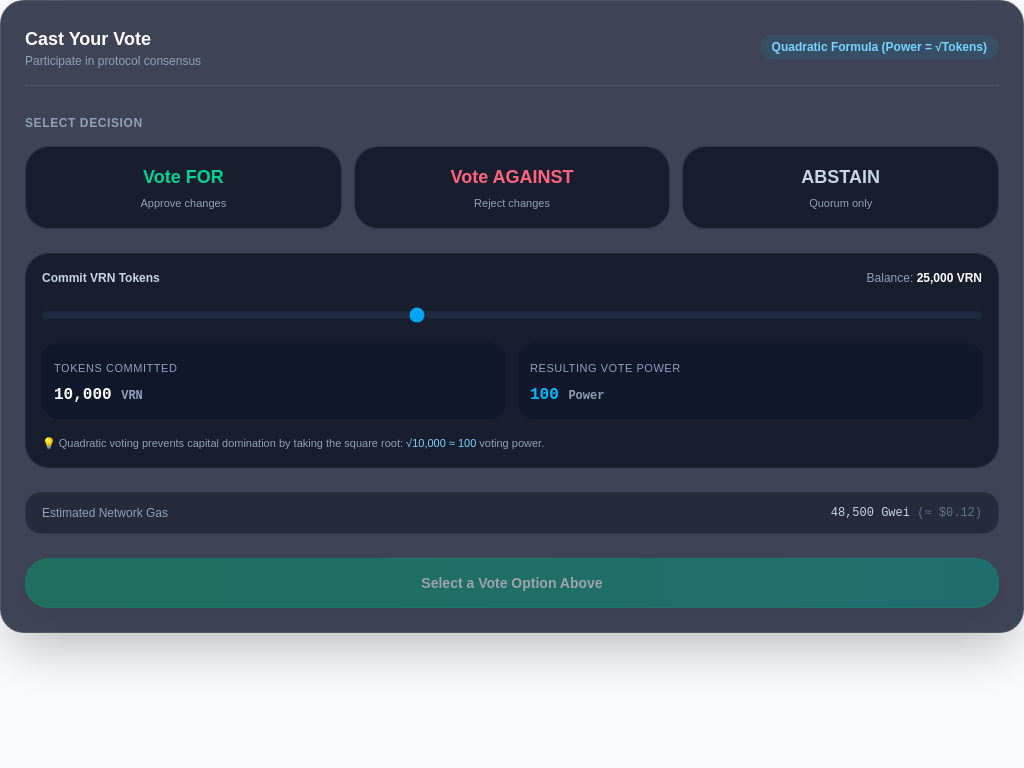
Test: Governance UI Components › VotePanel › selects voting choice and enables submit button
Click the text "Vote FOR" at (183,177), box [143, 163, 224, 191]
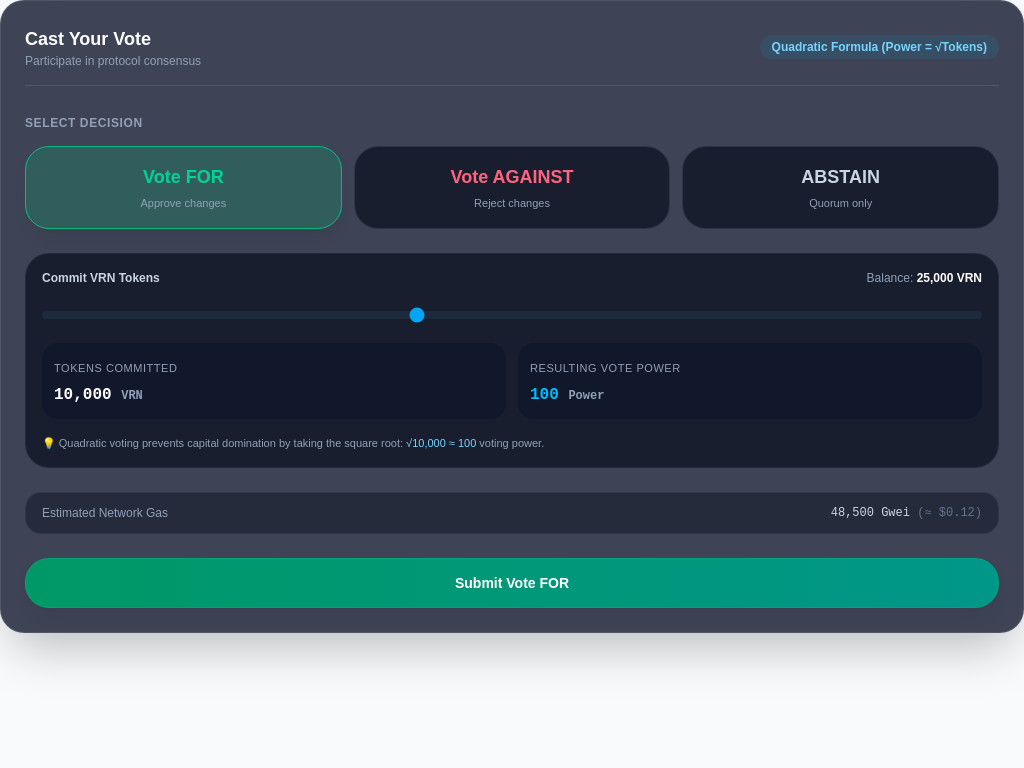
Now the button "Submit Vote FOR" is shown
// Open confirmation modal
Click the button "Submit Vote FOR" at (512,583), box [25, 558, 999, 608]
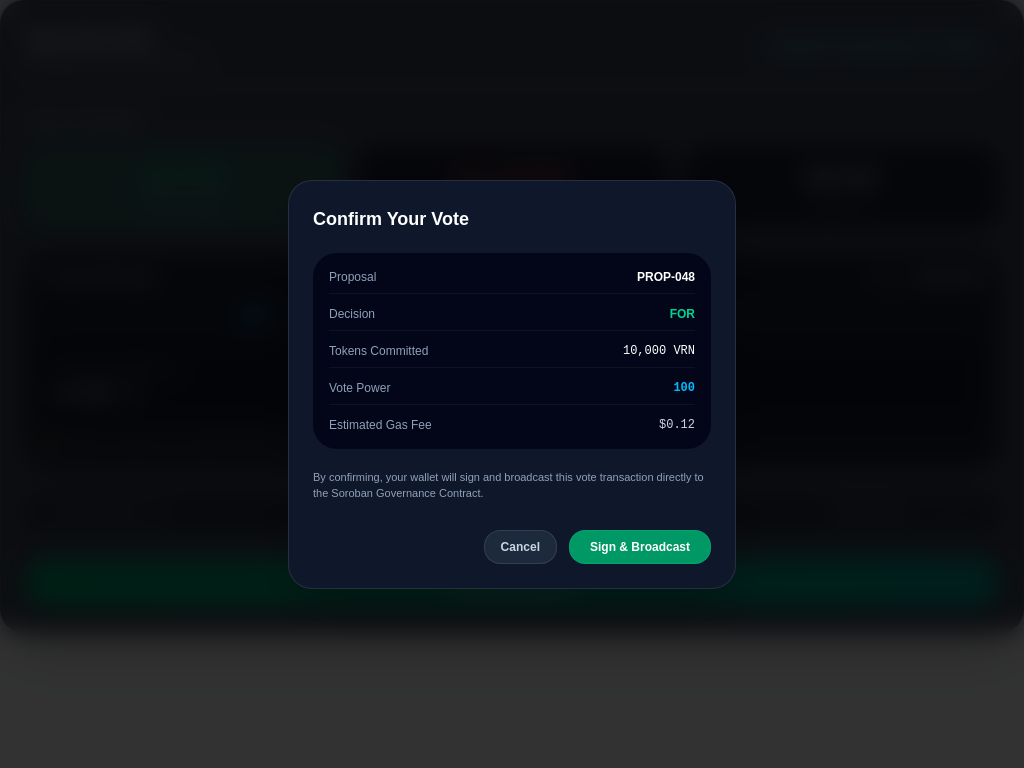
Now the heading "Confirm Your Vote" is shown, box [313, 208, 469, 228]
